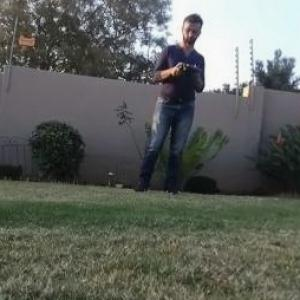follow: (125, 3, 209, 200)
